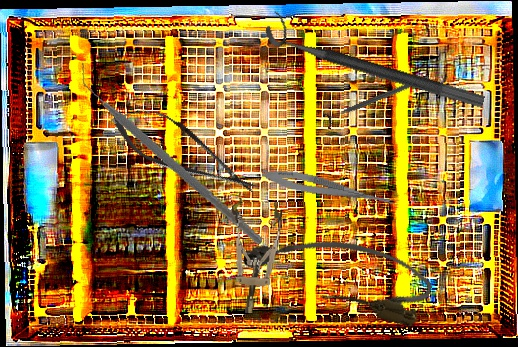Cannula: (238, 213, 438, 331)
Chopper: (56, 60, 288, 246)
Fixation Ring: (262, 10, 491, 110), (322, 69, 432, 130)
Micro Scissor: (99, 90, 268, 212), (260, 164, 401, 211)
Speculum: (223, 197, 283, 315)
